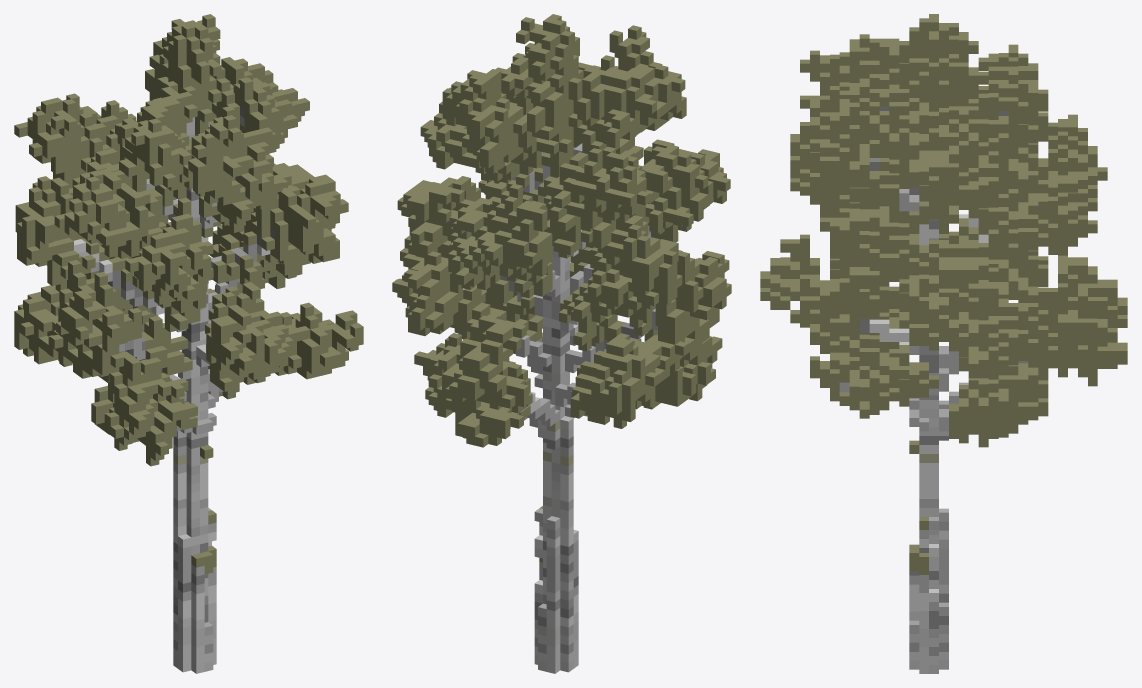
The model's file is tree_birch.glb.
3 views of the same model, side by side, from view 1: azimuth 30°, elevation 25°; view 2: azimuth 150°, elevation 25°; view 3: azimuth 270°, elevation 25° (orthographic).
Parts seen in each view (by area): view 1: Geode; view 2: Geode; view 3: Geode.
Boxes of the visible parts, left/top/right/bottom form: Geode: left=14, top=14, right=363, bottom=673; Geode: left=392, top=14, right=731, bottom=673; Geode: left=760, top=14, right=1127, bottom=673.
Bounding box in the file's own units: 35 × 72 × 37.
